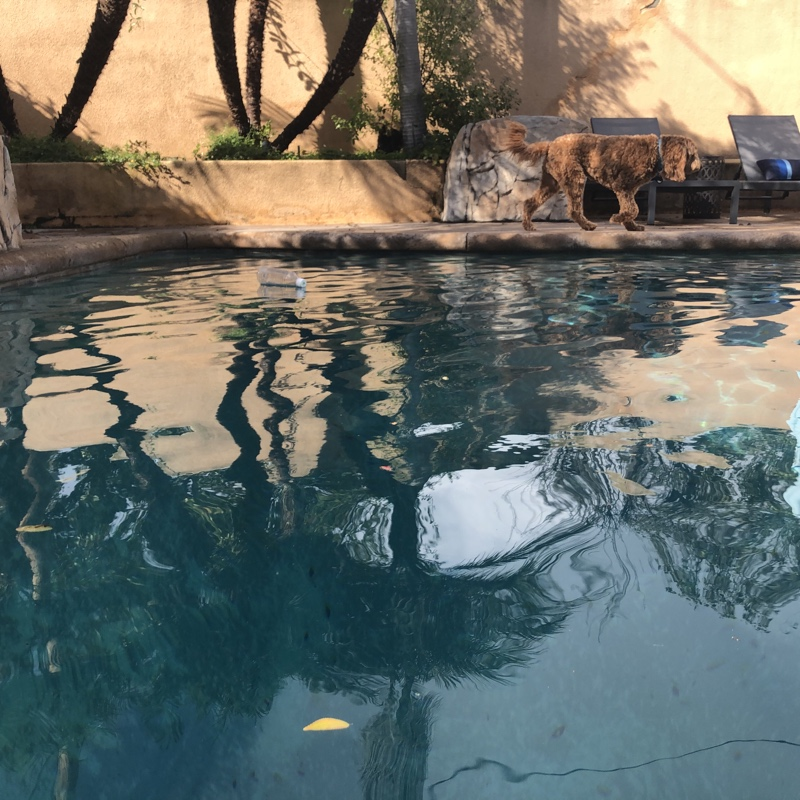Plastic Bottle: (255, 262, 307, 290)
